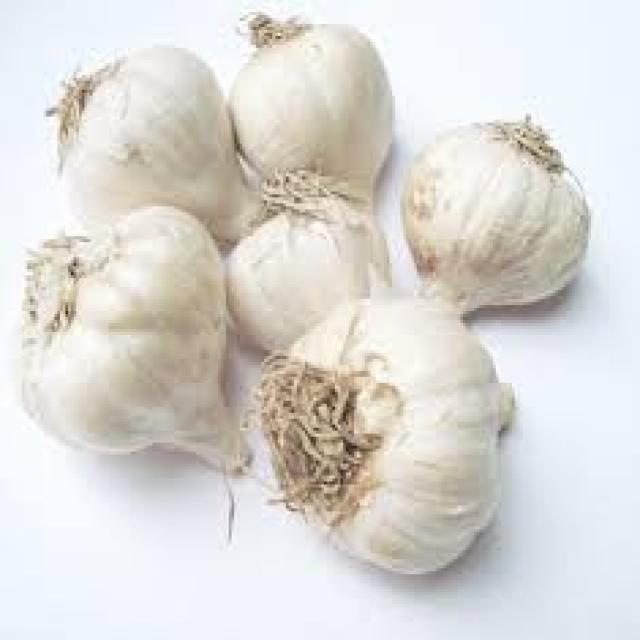Garlic: (4, 194, 272, 512), (250, 273, 497, 575), (376, 94, 576, 347), (40, 38, 273, 242), (217, 10, 410, 240), (204, 185, 409, 370)
